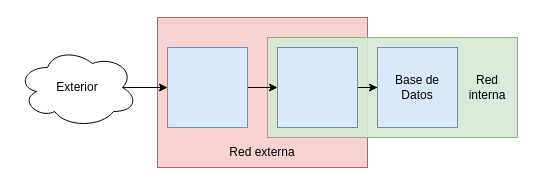
The diagram is 535 pixels wide and 185 high, and some of its shapes have lost their labels. The centre of each missing label's shape, as x and y in pixels:
"Nextcloud" goes at (317,87).
"Proxy Inverso" goes at (207,87).
